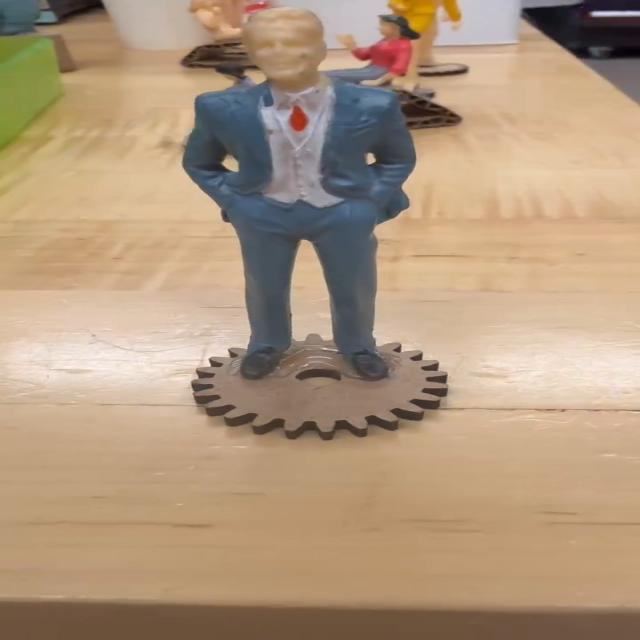Authorized: (43, 6, 516, 450)
